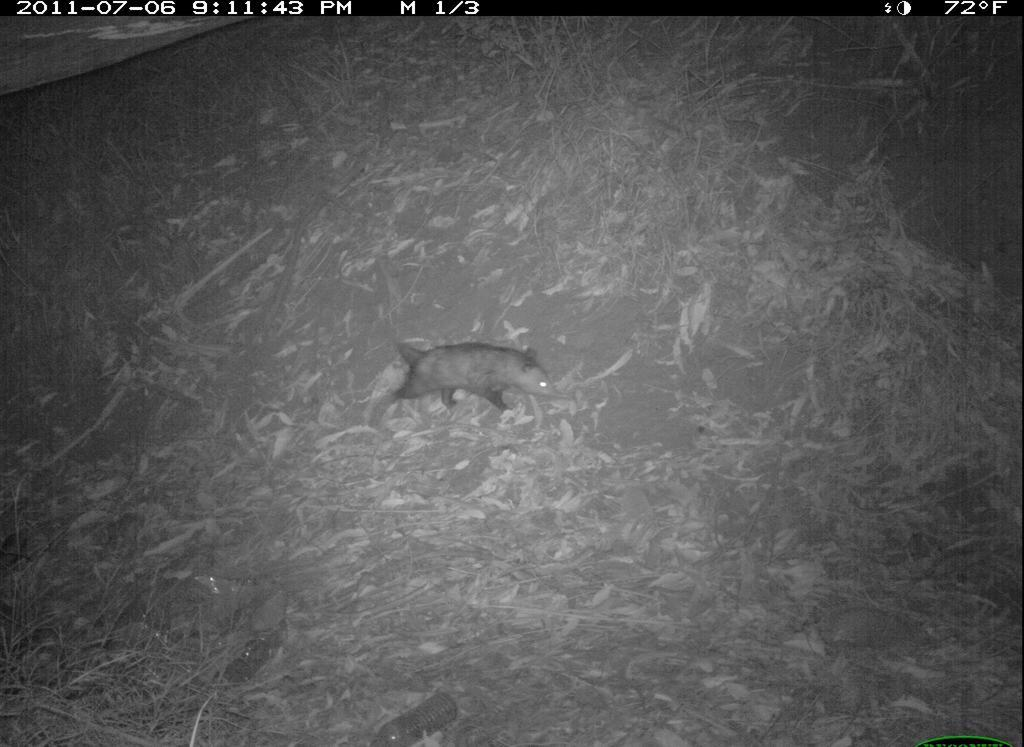opossum: (372, 336, 570, 437)
